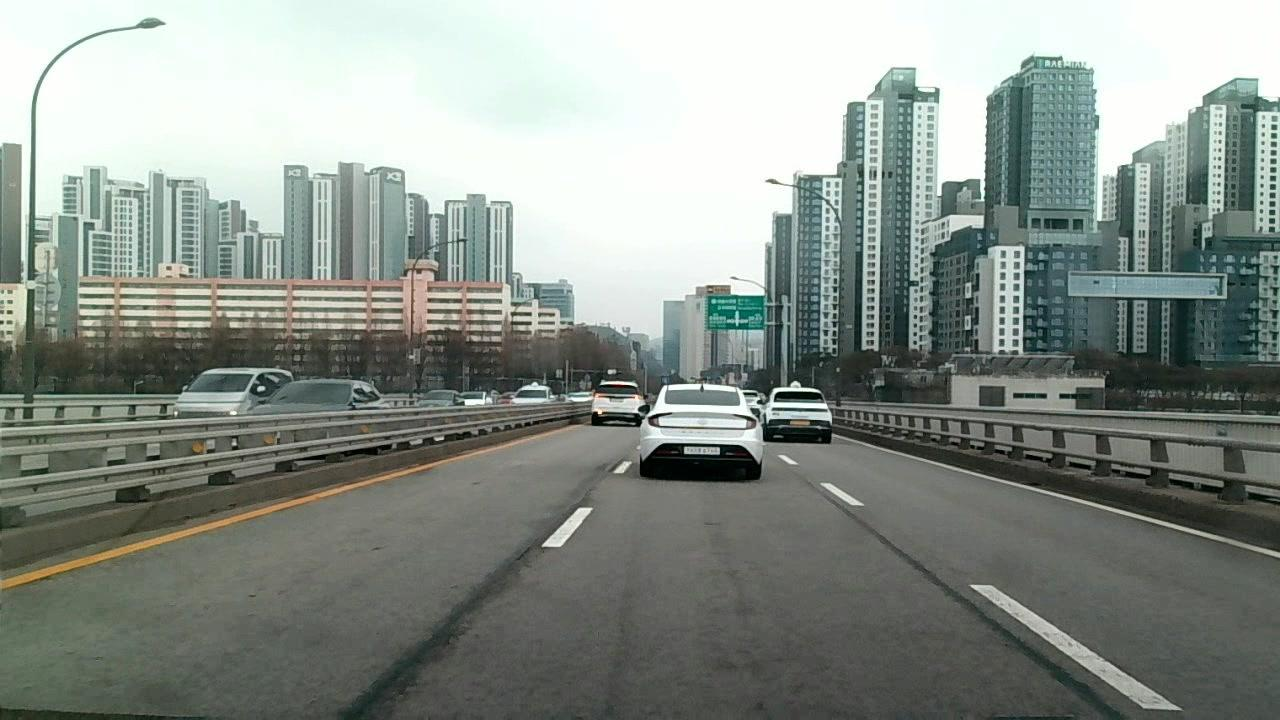banner: (336, 561, 511, 716), (955, 599, 1118, 720), (844, 505, 955, 596)
